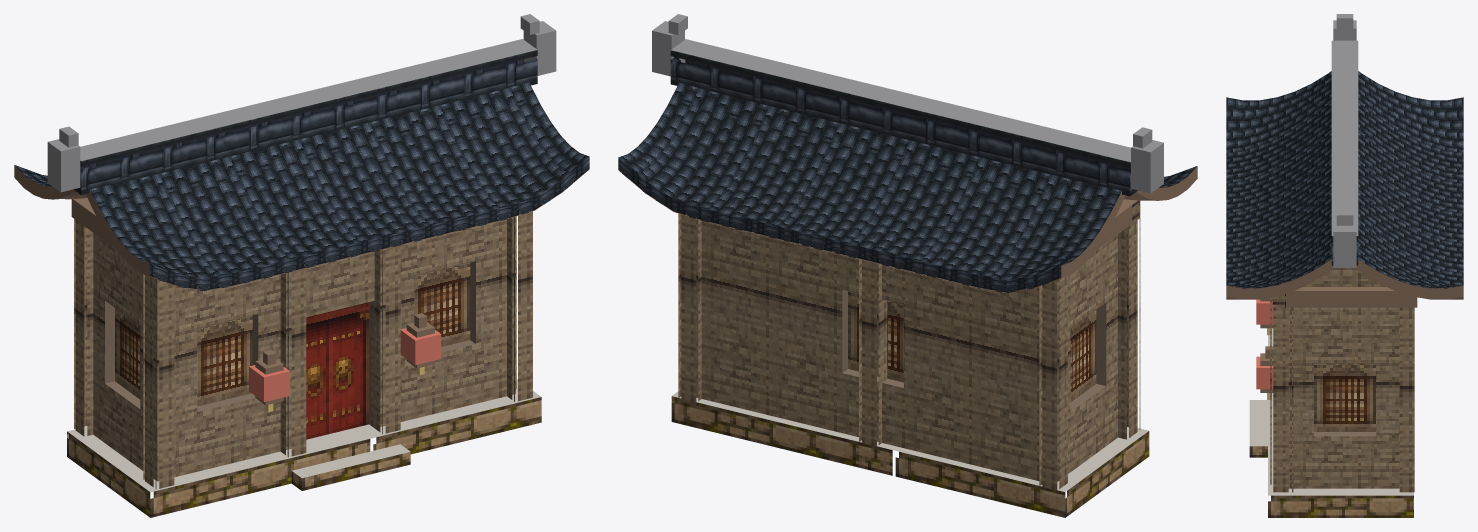
File: b_shop_blue.glb
The picture shows the model from 3 angles, left to right: view 1: azimuth 30°, elevation 25°; view 2: azimuth 150°, elevation 25°; view 3: azimuth 270°, elevation 25°; orthographic projection. The views are drawn at different scales.
Visible parts, largest first — view 1: roof, plaster, post, ridge, stone, ridgeend, win, door, stonetop, eave, wood, reveal (+1 smaller); view 2: plaster, roof, post, ridge, stone, ridgeend, eave, win, stonetop, wood, reveal; view 3: roof, plaster, ridgeend, post, wood, win, stone, stonetop, lantern, reveal.
Boxes of the visible parts, box(x1,y1,x2,y2) form: roof: box(15, 82, 589, 278); plaster: box(93, 216, 515, 481); post: box(74, 211, 532, 488); ridge: box(74, 50, 537, 194); stone: box(67, 397, 541, 517); ridgeend: box(47, 14, 556, 192); win: box(115, 262, 470, 406); door: box(306, 302, 368, 439); stonetop: box(67, 379, 540, 492); eave: box(149, 157, 589, 291); wood: box(14, 165, 434, 405); reveal: box(105, 261, 475, 427); plaster: box(696, 202, 1122, 481); roof: box(618, 82, 1196, 280); post: box(678, 201, 1140, 490); ridge: box(670, 50, 1137, 196); stone: box(671, 396, 1149, 517); ridgeend: box(652, 14, 1163, 193); eave: box(618, 158, 1061, 292); win: box(848, 291, 1096, 401); stonetop: box(672, 391, 1148, 491); wood: box(618, 166, 1197, 278); reveal: box(842, 289, 1106, 411); roof: box(1226, 71, 1463, 288); plaster: box(1288, 268, 1399, 488); ridgeend: box(1331, 14, 1358, 267); post: box(1270, 297, 1414, 492); wood: box(1226, 259, 1463, 392); win: box(1314, 363, 1375, 431); stone: box(1249, 446, 1413, 517); stonetop: box(1249, 328, 1413, 495); lantern: box(1256, 299, 1273, 389); reveal: box(1314, 432, 1375, 436).
Bounding box in the file's own units: 60.8 × 42.66 × 28.78.
16 materials, 9 textured.
